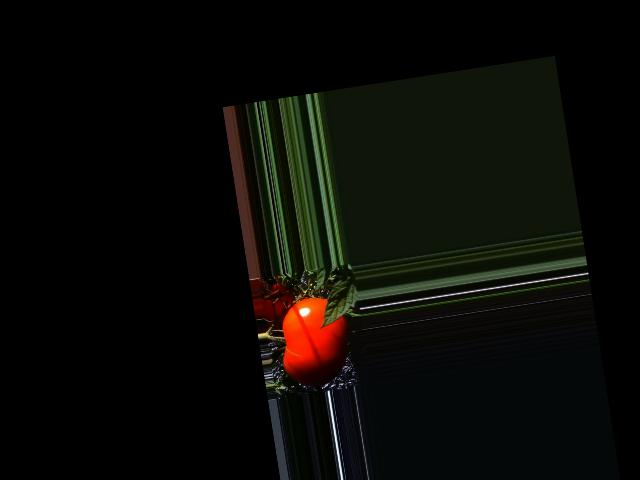tomato: (274, 292, 356, 390)
